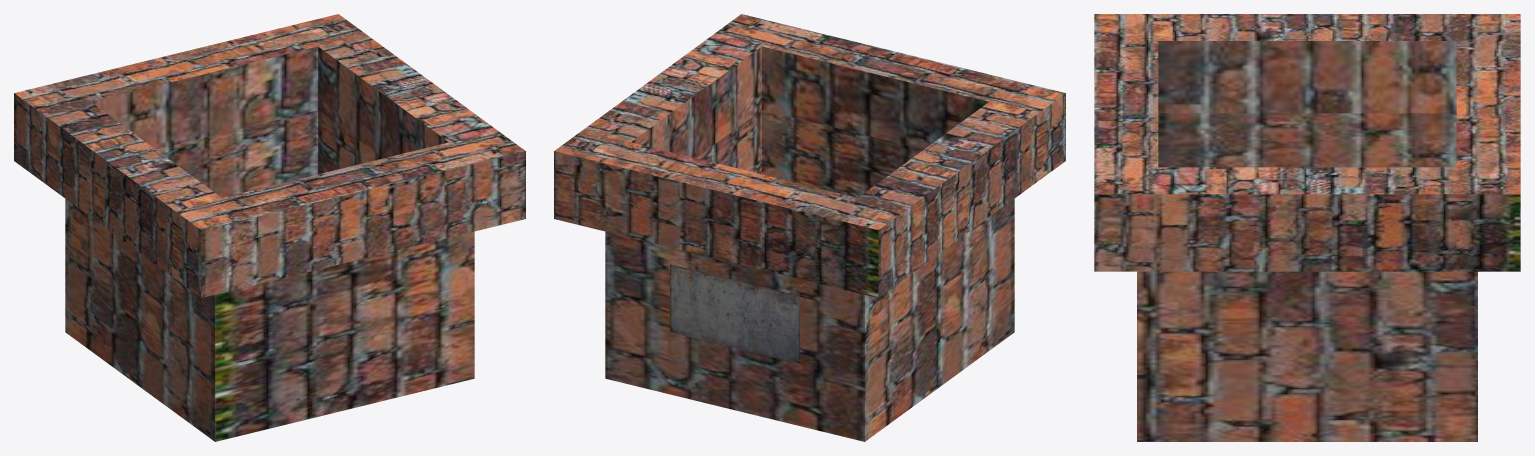
File: cerobong.glb
3 views of the same model, side by side, from view 1: azimuth 30°, elevation 25°; view 2: azimuth 150°, elevation 25°; view 3: azimuth 270°, elevation 25° (orthographic). The views are drawn at different scales.
Parts seen in each view (by area): view 1: atas, bawah; view 2: atas, bawah, Plane; view 3: atas, bawah.
Boxes of the visible parts, box(x1,y1,x2,y2) form: atas: box(14, 14, 525, 297); bawah: box(65, 110, 474, 441); atas: box(554, 14, 1065, 297); bawah: box(605, 110, 1014, 441); Plane: box(670, 264, 799, 363); atas: box(1094, 14, 1520, 271); bawah: box(1137, 113, 1477, 441).
Bounding box in the file's own units: 1 × 0.6873 × 1.
Materials: 3 (3 with a texture image).
